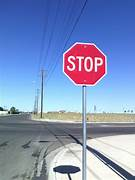stop: (62, 42, 108, 87)
